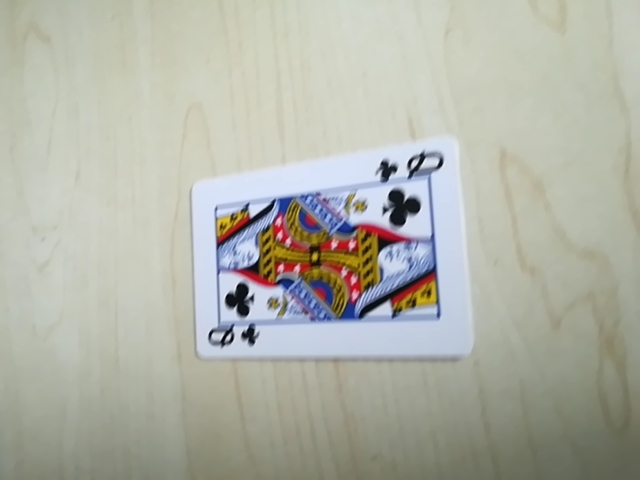mh q: (378, 146, 448, 184), (198, 319, 261, 355)
